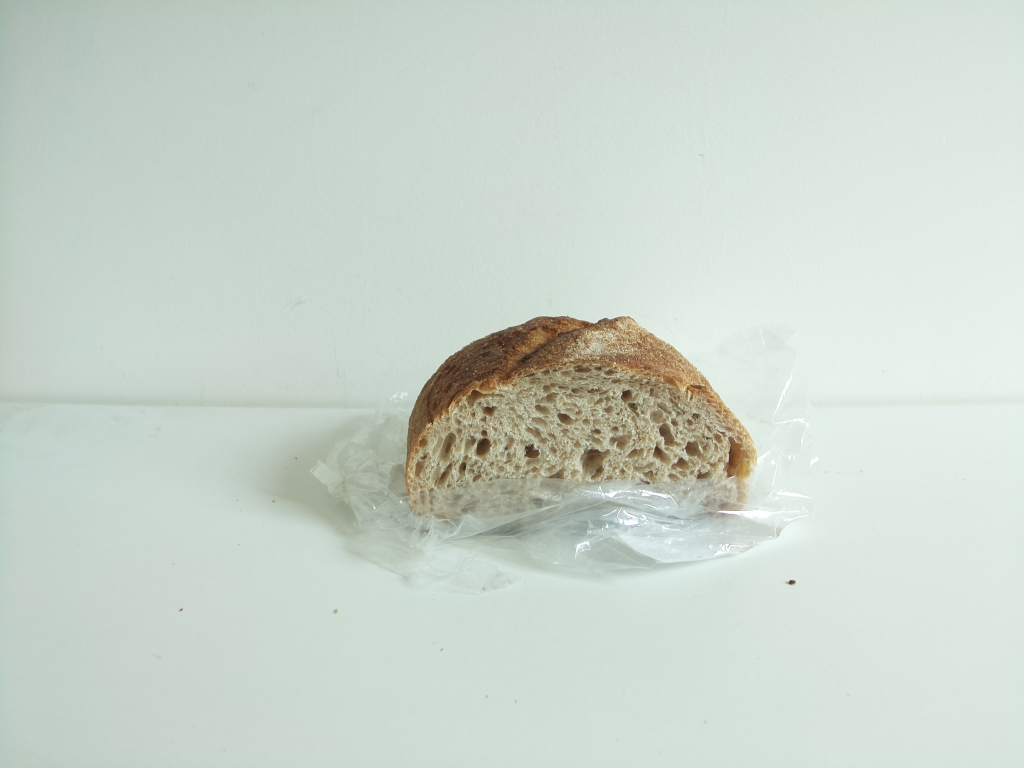bread: (405, 314, 759, 538)
